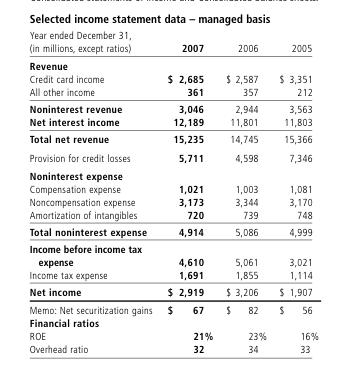table: (28, 28, 318, 354)
table column: (28, 28, 159, 354), (159, 28, 218, 354), (218, 28, 272, 354), (272, 28, 318, 354)
table column header: (28, 28, 318, 56)
table projected row header: (28, 56, 318, 72), (28, 166, 318, 181), (28, 316, 318, 329)
table row: (28, 28, 318, 56), (28, 239, 318, 267), (28, 147, 318, 166), (28, 282, 318, 300), (28, 130, 318, 147), (28, 222, 318, 239), (28, 56, 318, 72), (28, 300, 318, 316), (28, 85, 318, 100), (28, 100, 318, 115), (28, 115, 318, 130), (28, 166, 318, 181), (28, 207, 318, 222), (28, 267, 318, 282), (28, 72, 318, 85), (28, 181, 318, 194), (28, 194, 318, 207), (28, 316, 318, 329), (28, 329, 318, 342), (28, 342, 318, 354)
